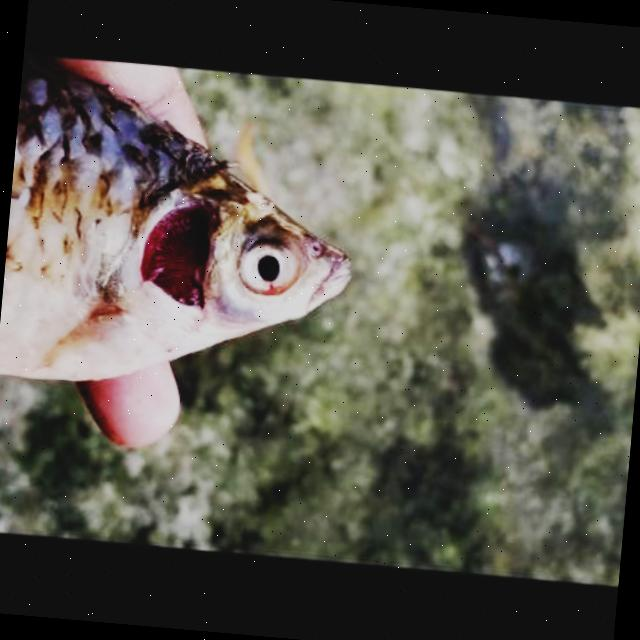Flavobacterium -Bacterial Gill Disease-: (0, 51, 350, 379), (0, 55, 348, 381)
